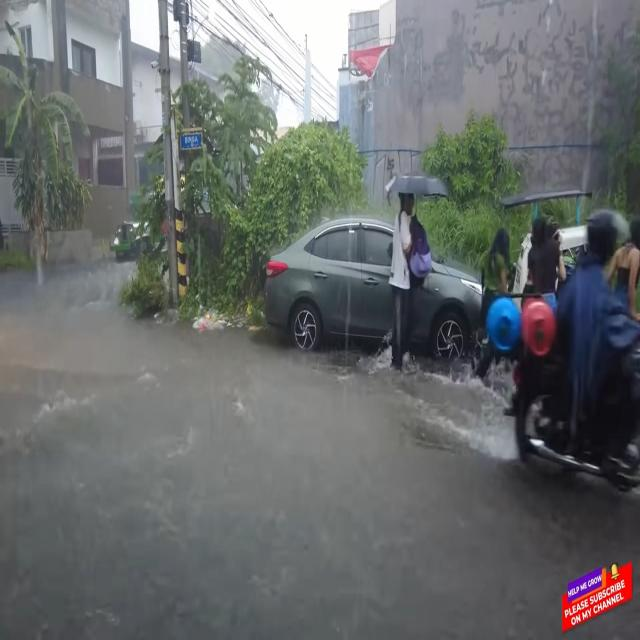half: (578, 196, 634, 276)
